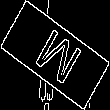M_SW: (26, 21, 84, 89)
